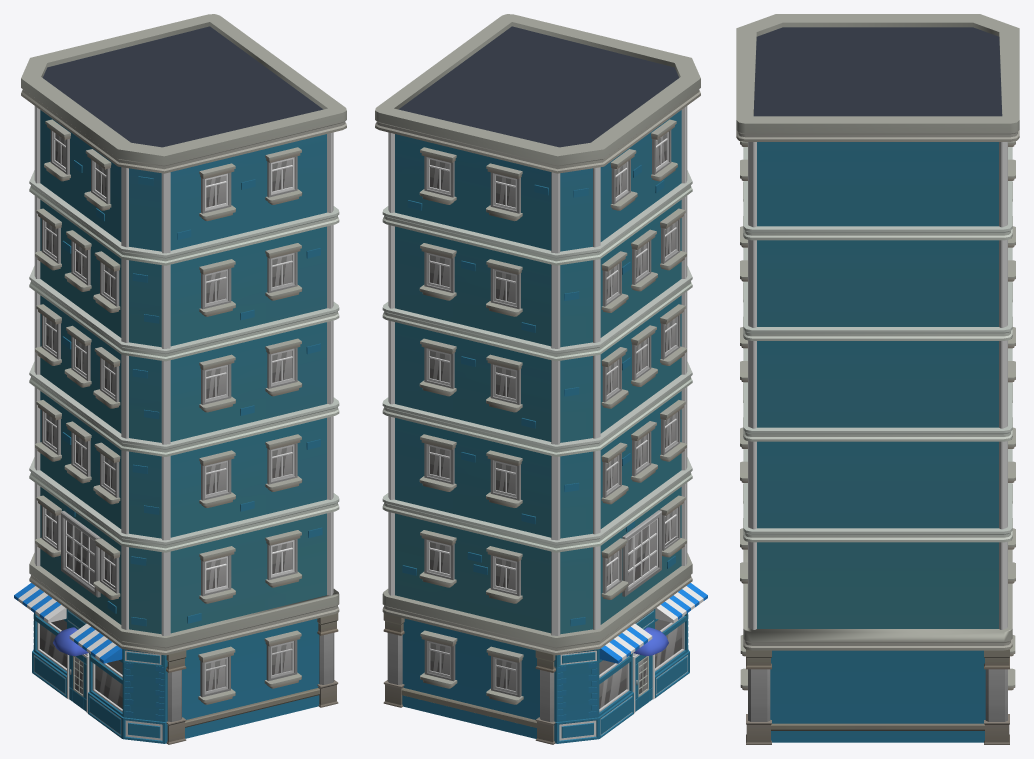
Rendered from Building_3_4_C.fbx.
The picture shows the model from 3 angles, left to right: view 1: azimuth 30°, elevation 25°; view 2: azimuth 150°, elevation 25°; view 3: azimuth 270°, elevation 25°; orthographic projection. The views are drawn at different scales.
Visible parts, largest first — view 1: Building 3_4_C; view 2: Building 3_4_C; view 3: Building 3_4_C.
Part boxes in pixels (x1,y1,x2,y2): Building 3_4_C: (14,14,346,744); Building 3_4_C: (375,14,707,744); Building 3_4_C: (736,14,1019,744).
Size of the model in its own units: 808 by 2041 by 837.
